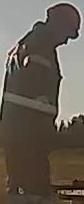helmet: (45, 1, 81, 31)
vest: (1, 34, 66, 150)
